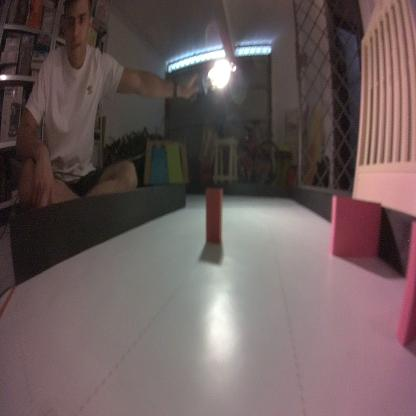magenta: (328, 193, 383, 262)
red: (204, 183, 222, 246)
